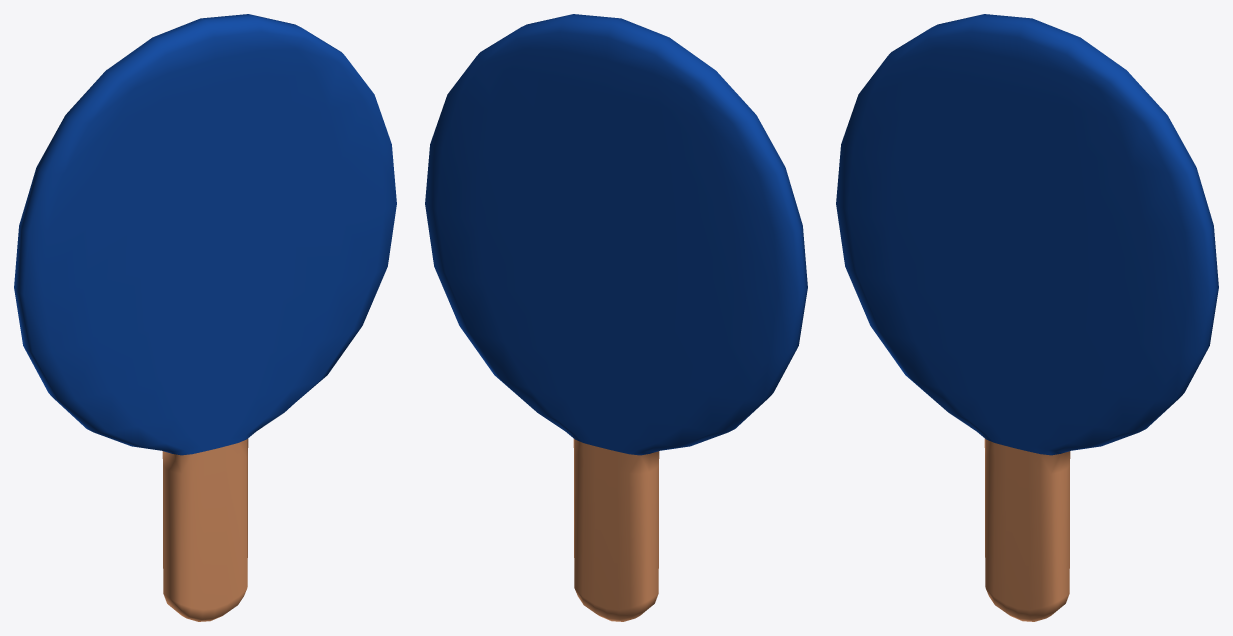
The model's file is bat.fbx.
3 renders of one model, left to right at view 1: azimuth 30°, elevation 25°; view 2: azimuth 150°, elevation 25°; view 3: azimuth 330°, elevation 25°, orthographic.
Parts seen in each view (by area): view 1: bat; view 2: bat; view 3: bat.
Part boxes in pixels (x1,y1,x2,y2): bat: (14, 14, 396, 621); bat: (425, 14, 807, 621); bat: (836, 14, 1218, 621).
Size of the model in its own units: 11.43 by 17.39 by 1.05.
